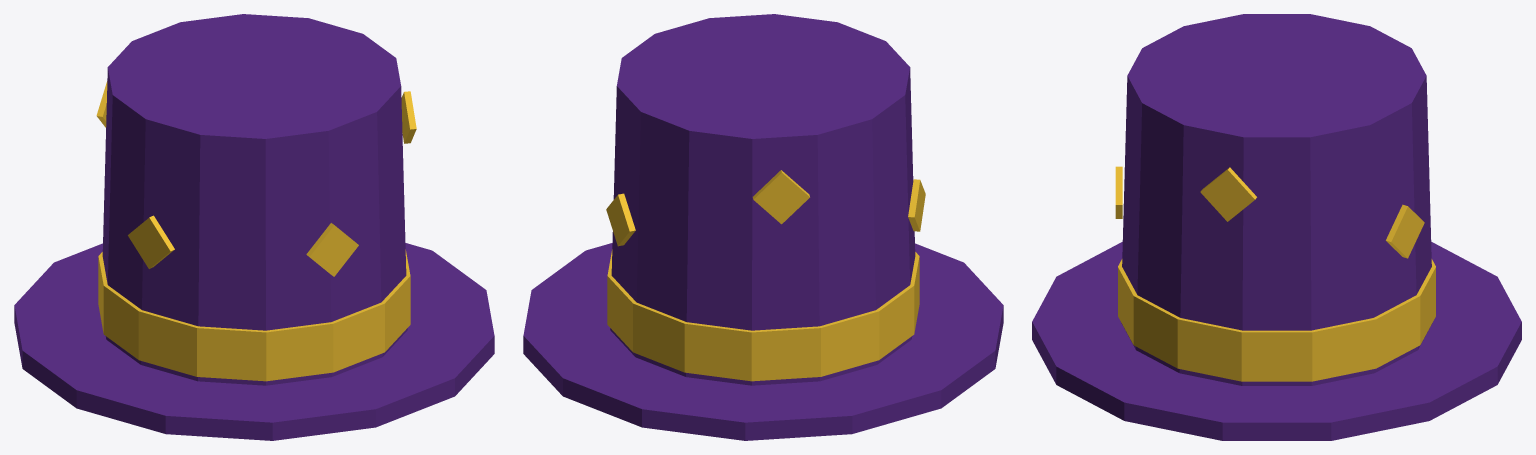
File: show_hat.glb
3 views of the same model, side by side, from view 1: azimuth 30°, elevation 25°; view 2: azimuth 150°, elevation 25°; view 3: azimuth 270°, elevation 25° (orthographic).
Visible parts, largest first — view 1: crown_show_hat_felt, brim_show_hat_felt, band_show_hat_band, stars_show_hat_band (×3); view 2: crown_show_hat_felt, brim_show_hat_felt, band_show_hat_band, stars_show_hat_band (×3); view 3: crown_show_hat_felt, brim_show_hat_felt, band_show_hat_band, stars_show_hat_band (×2).
Boxes of the visible parts, x1,y1,x2,y2 form: crown_show_hat_felt: (102, 14, 407, 385); brim_show_hat_felt: (14, 243, 494, 440); band_show_hat_band: (98, 249, 410, 381); stars_show_hat_band (×3): (128, 91, 416, 276); crown_show_hat_felt: (610, 14, 915, 385); brim_show_hat_felt: (523, 243, 1003, 440); band_show_hat_band: (607, 249, 919, 381); stars_show_hat_band (×3): (606, 170, 925, 246); crown_show_hat_felt: (1121, 14, 1432, 385); brim_show_hat_felt: (1032, 242, 1521, 440); band_show_hat_band: (1118, 259, 1435, 381); stars_show_hat_band (×2): (1200, 167, 1424, 258).
Size of the model in its own units: 0.351 by 0.2145 by 0.36.
